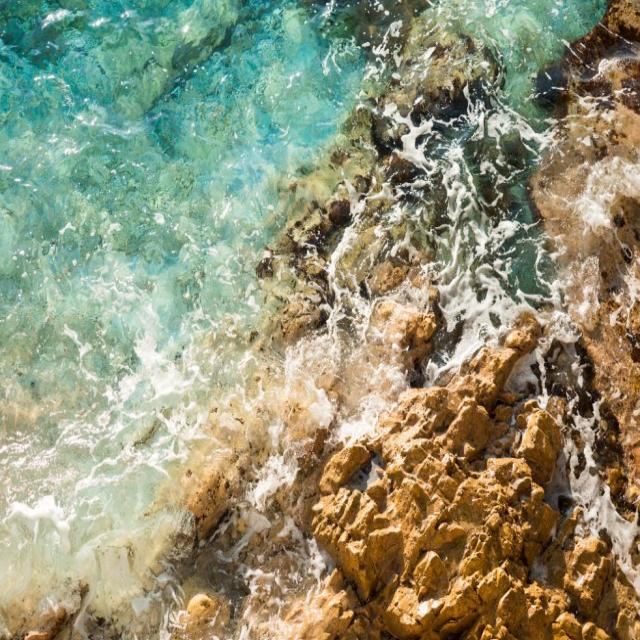reef: (268, 95, 620, 636)
